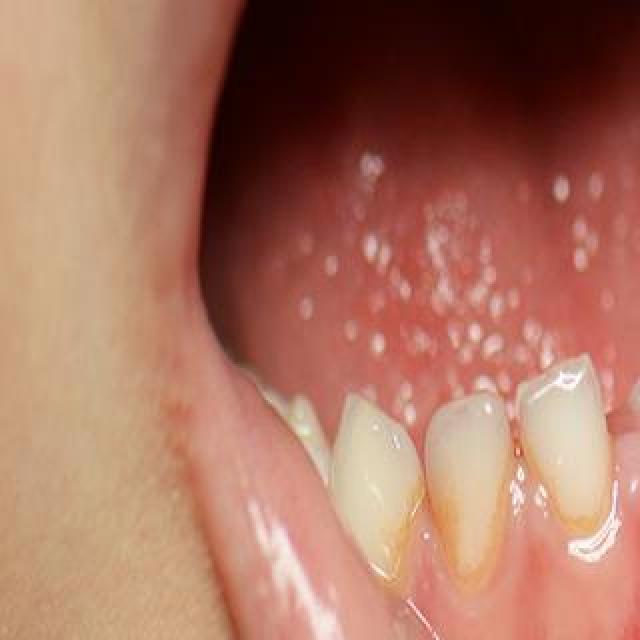maligned: (614, 328, 640, 506)
spacing: (397, 423, 447, 523), (499, 385, 533, 461)
stains: (342, 476, 460, 620), (416, 450, 520, 590), (529, 470, 617, 576)
